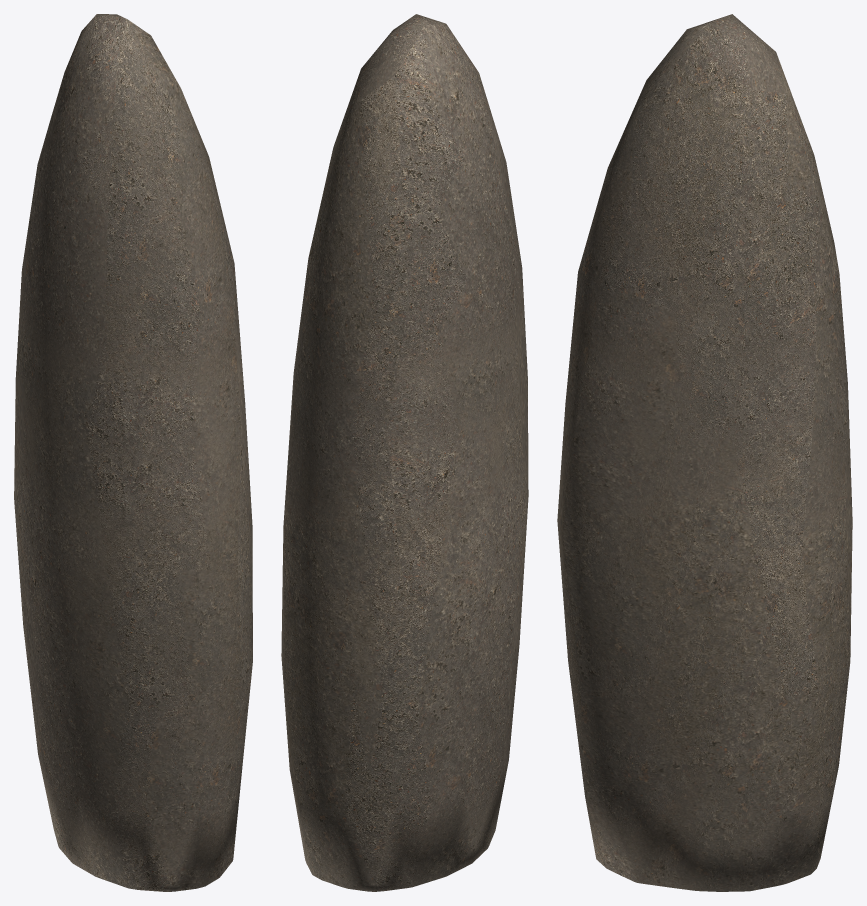
Rendered from standing_stone_02.glb.
The picture shows the model from 3 angles, left to right: view 1: azimuth 30°, elevation 25°; view 2: azimuth 150°, elevation 25°; view 3: azimuth 270°, elevation 25°; orthographic projection.
Parts seen in each view (by area): view 1: standing_stone_02; view 2: standing_stone_02; view 3: standing_stone_02.
Boxes of the visible parts, x1,y1,x2,y2 form: standing_stone_02: (14,14,252,891); standing_stone_02: (281,14,528,891); standing_stone_02: (557,14,852,891).
Bounding box in the file's own units: 0.7978 × 3.28 × 1.06.
1 material, 1 textured.
